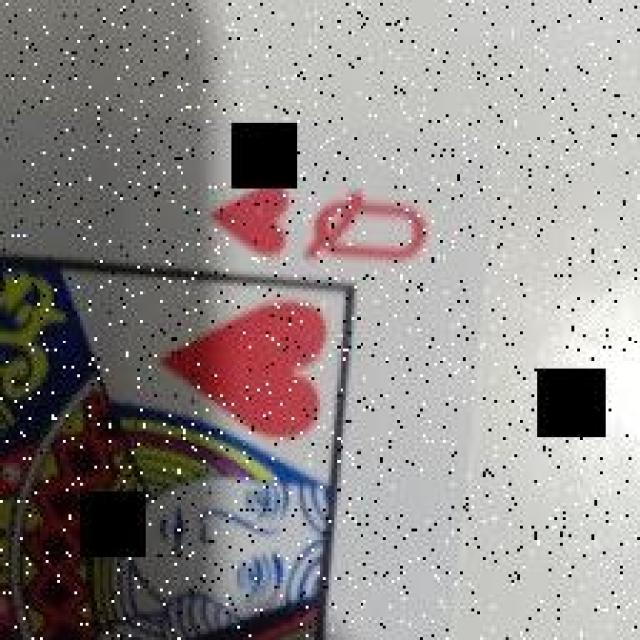Queen of hearts: (0, 155, 456, 640)
